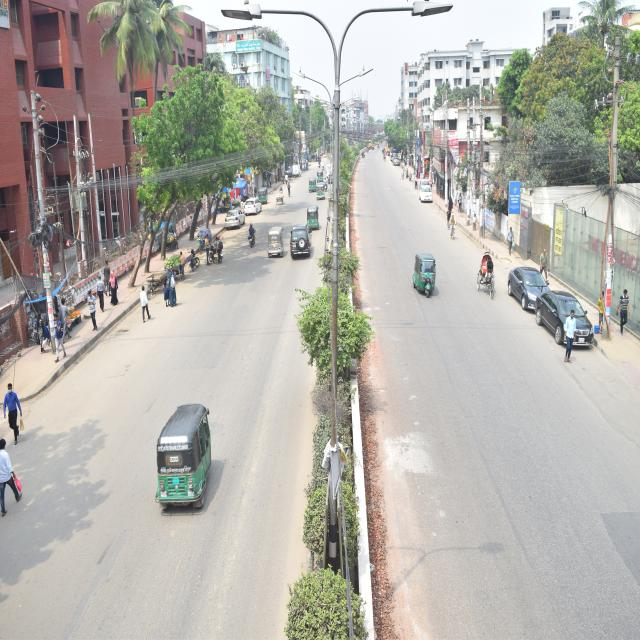car: (540, 290, 602, 348), (507, 259, 553, 314), (242, 198, 265, 216), (226, 213, 245, 230)
motorbike: (243, 222, 257, 252)
